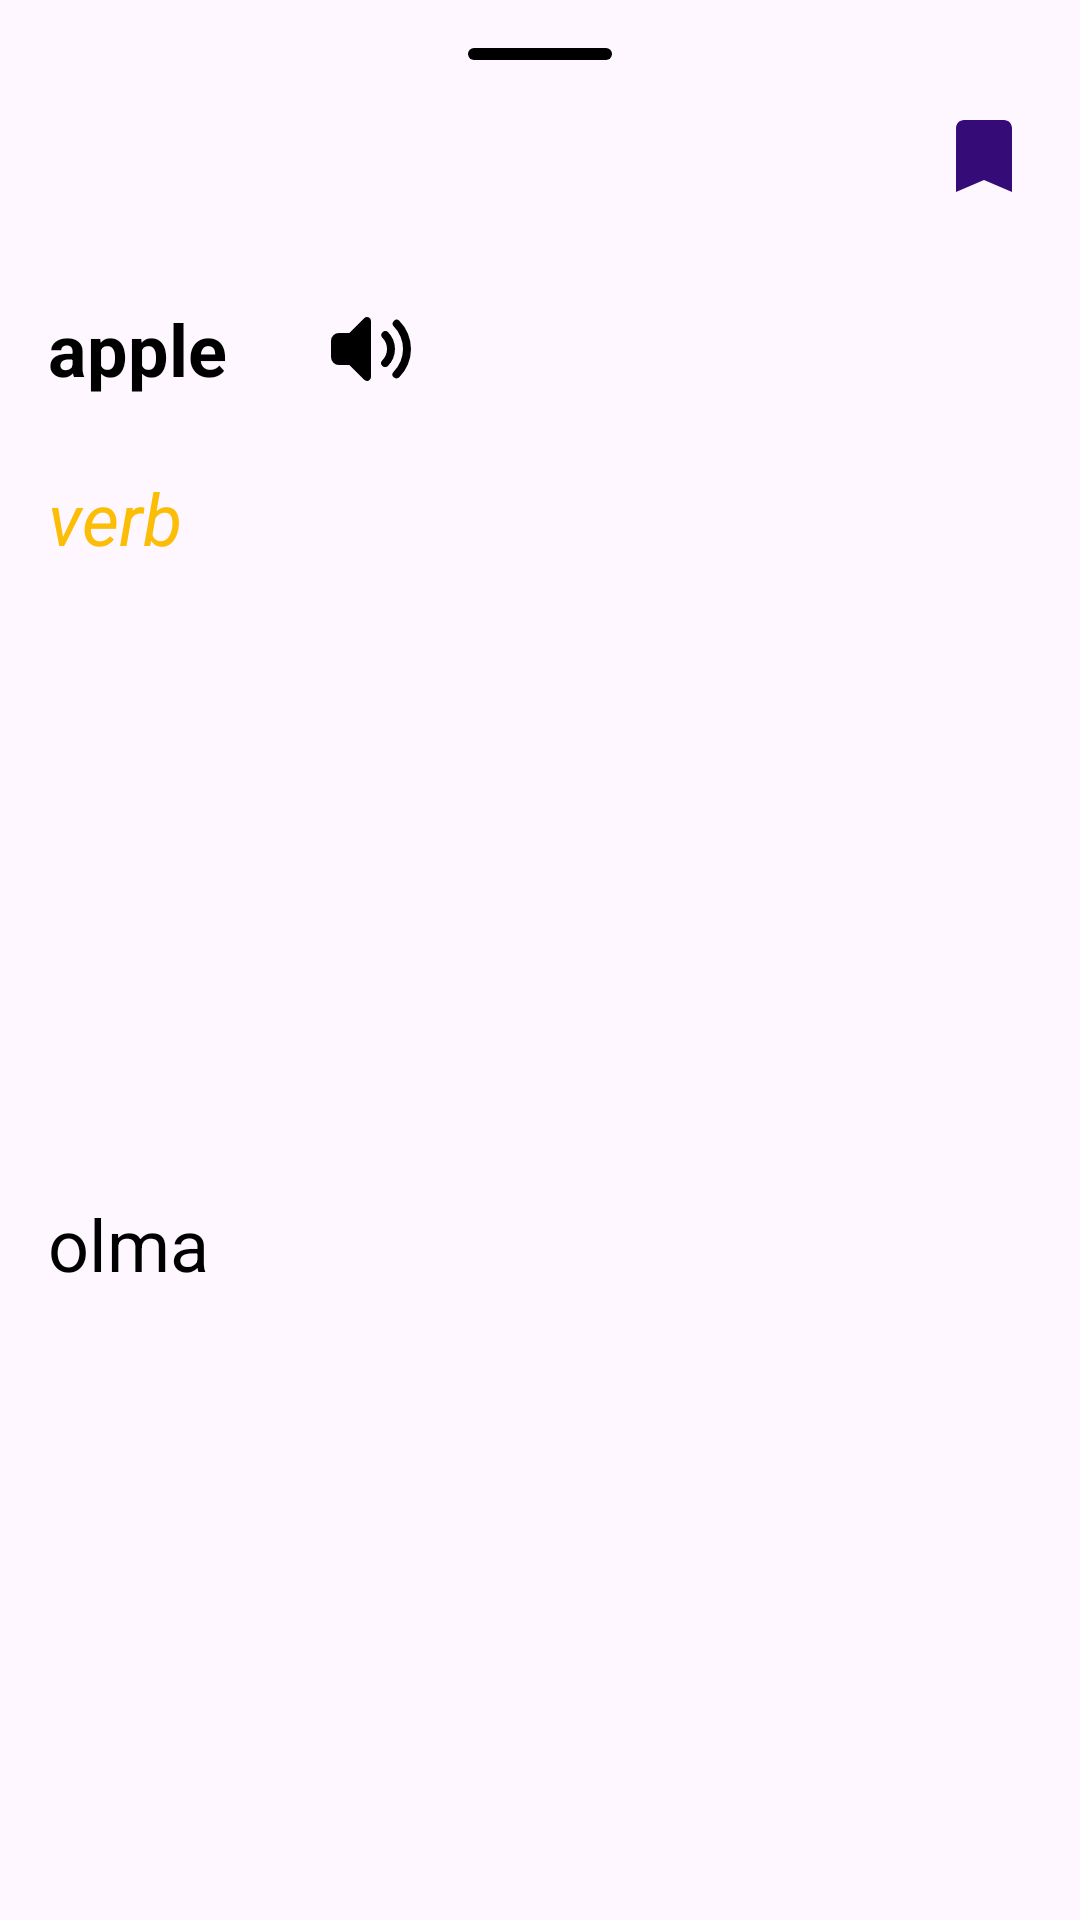

Screen size 1080 × 1920. Icon name, then its box in pixels as (x1, y1, x2, y2):
sound: (331, 317, 411, 381)
